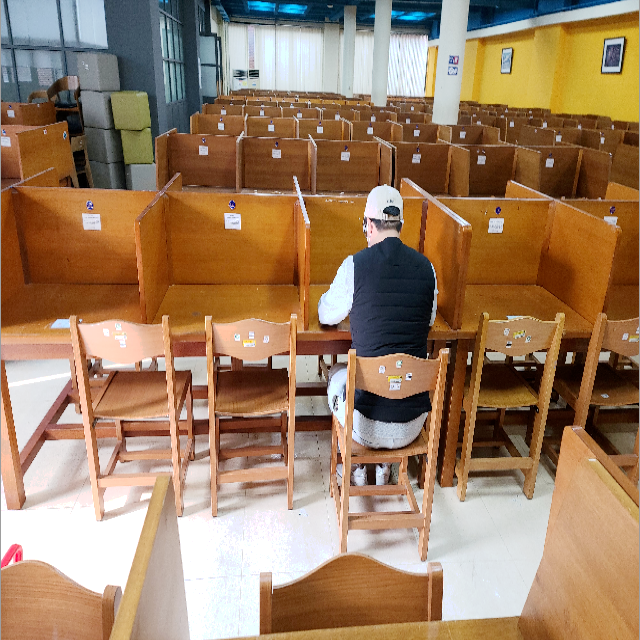empty: (145, 186, 305, 405), (3, 195, 143, 404)
full: (312, 184, 469, 446)
